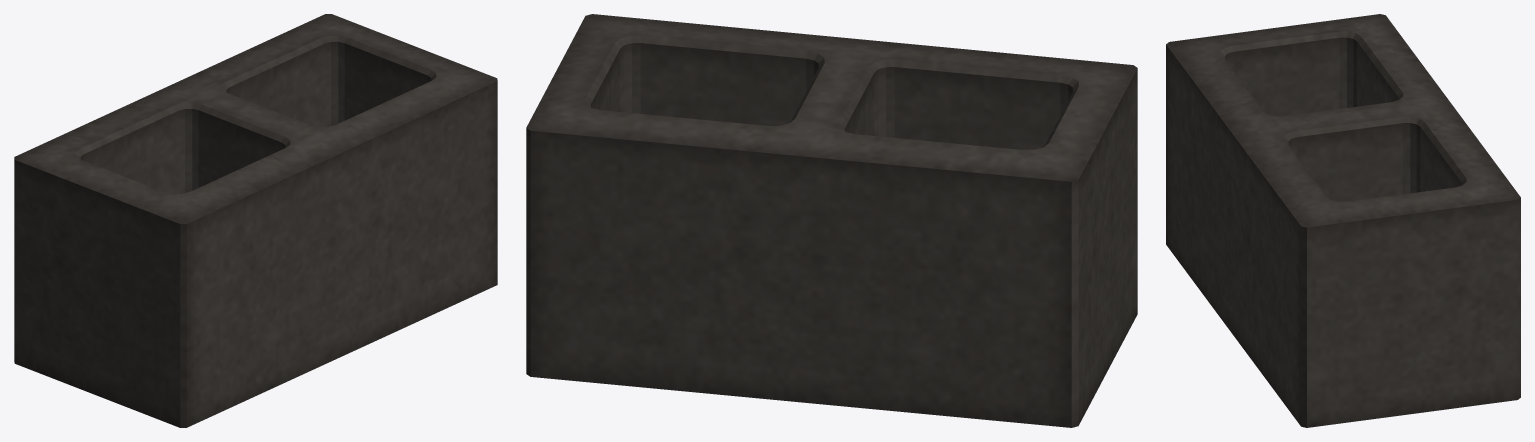
3 renders of one model, left to right at view 1: azimuth 30°, elevation 25°; view 2: azimuth 150°, elevation 25°; view 3: azimuth 270°, elevation 25°, orthographic. The views are drawn at different scales.
Parts seen in each view (by area): view 1: concrete_block_1; view 2: concrete_block_1; view 3: concrete_block_1.
Part boxes in pixels (x1,y1,x2,y2): concrete_block_1: [14, 14, 497, 427]; concrete_block_1: [526, 14, 1137, 427]; concrete_block_1: [1166, 14, 1520, 427].
Size of the model in its own units: 0.4742 by 0.216 by 0.3328.
1 material, 1 textured.
